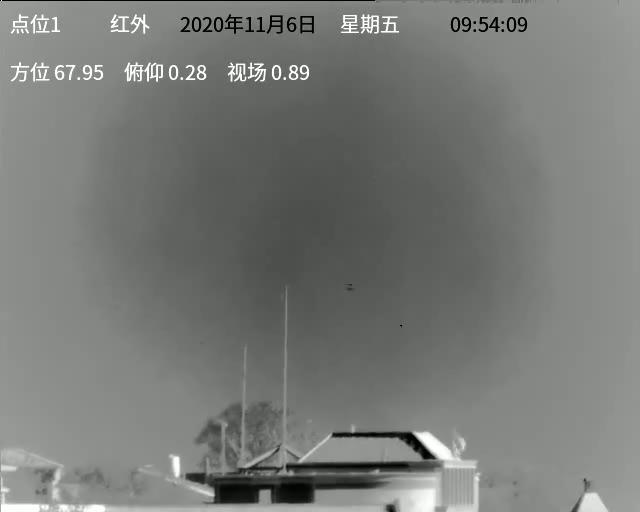uav: (344, 283, 355, 292)
